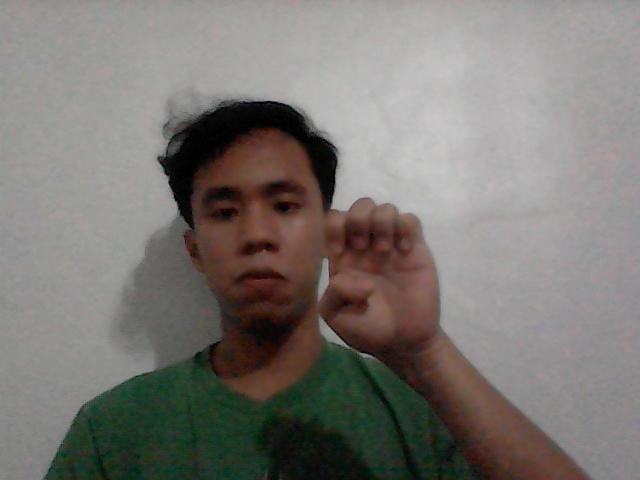E: (302, 186, 459, 382)
